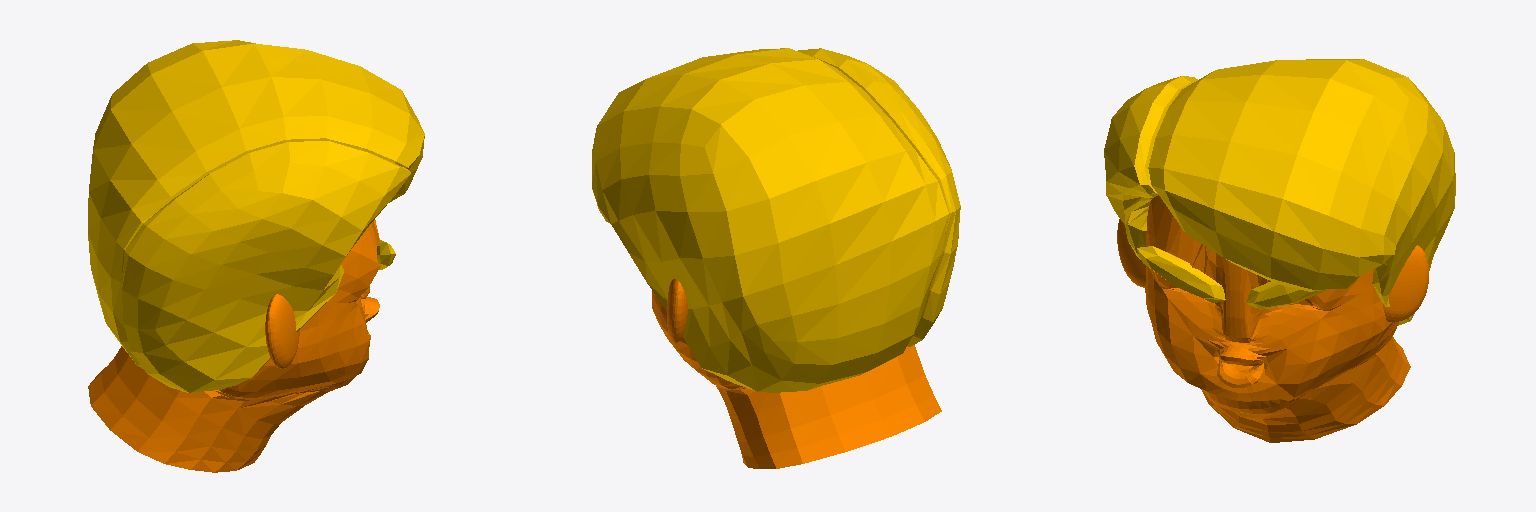
The model's file is trump_head_04.obj.
3 views of the same model, side by side, from view 1: azimuth 30°, elevation 25°; view 2: azimuth 150°, elevation 25°; view 3: azimuth 270°, elevation 25° (orthographic).
Visible parts, largest first — view 1: eyebrow_1.1; view 2: eyebrow_1.1; view 3: eyebrow_1.1.
Part boxes in pixels (bbox=[...]): eyebrow_1.1: bbox=[88, 40, 424, 472]; eyebrow_1.1: bbox=[592, 48, 960, 468]; eyebrow_1.1: bbox=[1104, 59, 1455, 442].
Bounding box in the file's own units: 30.34 × 34.49 × 29.21.